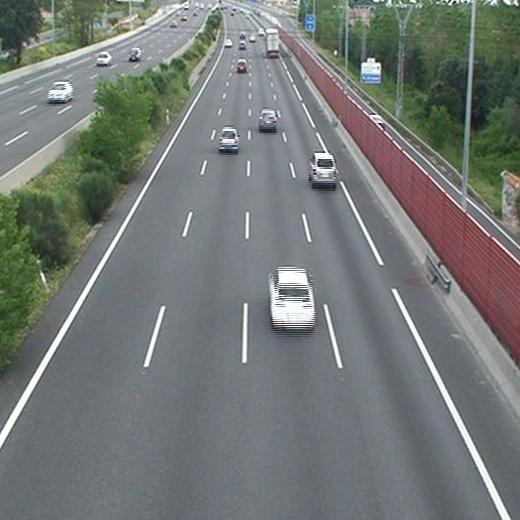car: (269, 268, 314, 329), (308, 153, 337, 184), (219, 129, 238, 149), (259, 110, 276, 129), (237, 60, 247, 71), (223, 39, 232, 46), (237, 40, 244, 48)
truck: (265, 29, 278, 58)
